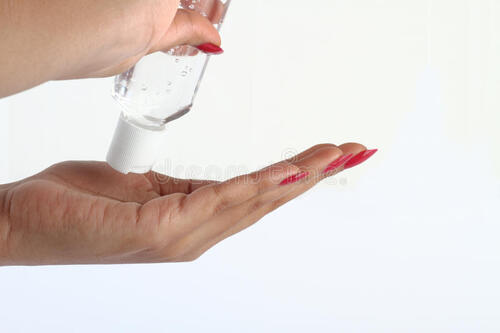sanitizer: (109, 2, 204, 178)
